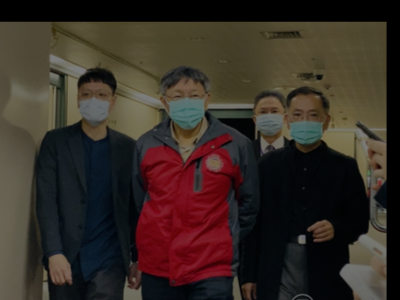with_mask: (165, 86, 207, 130), (286, 107, 327, 146), (77, 85, 112, 127), (254, 103, 286, 136)
